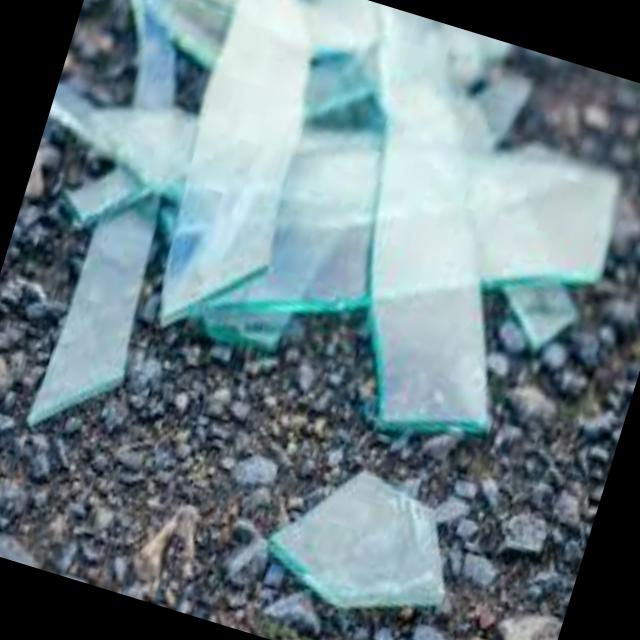PecahanKaca: (0, 0, 640, 574), (252, 445, 474, 638)
